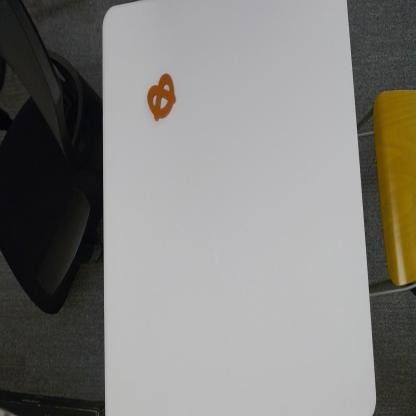Pretzel: (146, 69, 178, 123)
